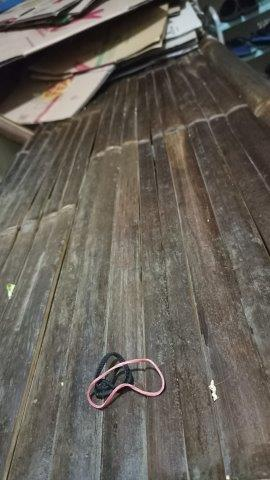kardus: (1, 1, 203, 123)
karet: (87, 353, 165, 408)
